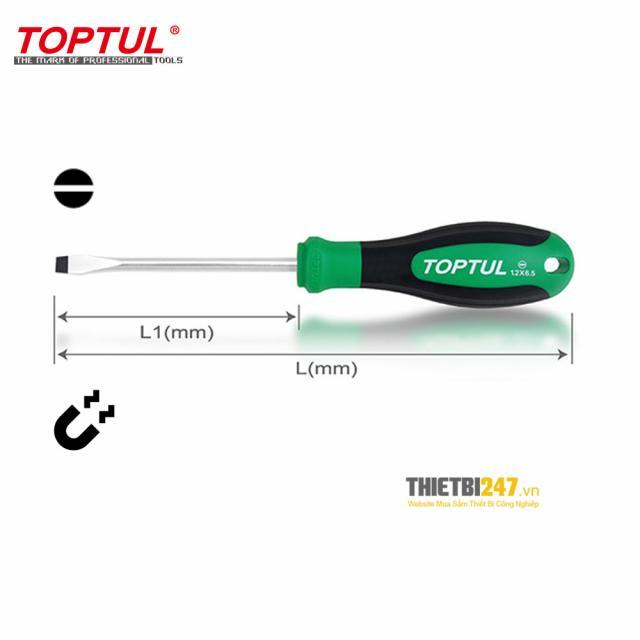screwdriver: (50, 217, 574, 313)
